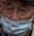mask_weared_incorrect: (1, 1, 34, 36)
